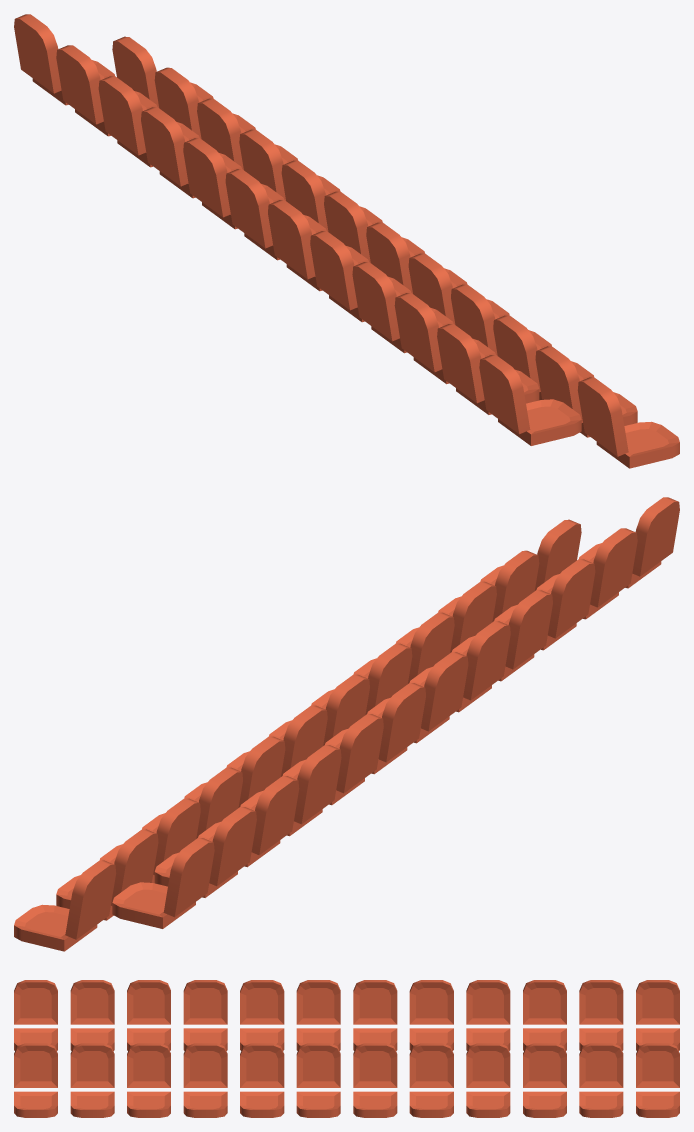
File: armchairs.fbx
3 renders of one model, top to bottom at view 1: azimuth 30°, elevation 25°; view 2: azimuth 150°, elevation 25°; view 3: azimuth 270°, elevation 25°, orthographic. The views are drawn at different scales.
Visible parts, largest first — view 1: armchairs; view 2: armchairs; view 3: armchairs.
Part boxes in pixels (<box>): armchairs: <box>14,14,679,468</box>; armchairs: <box>14,497,679,951</box>; armchairs: <box>14,980,679,1117</box>.
Bounding box in the file's own units: 208 × 137 × 1014.
